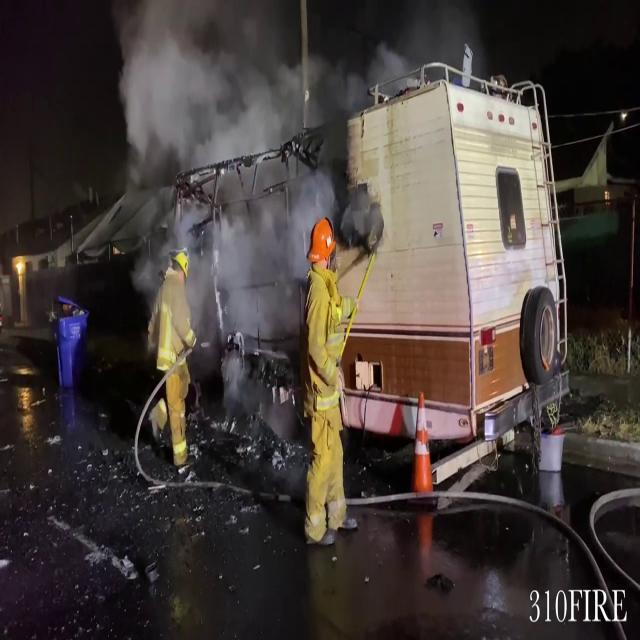Smoke: (107, 0, 332, 305)
